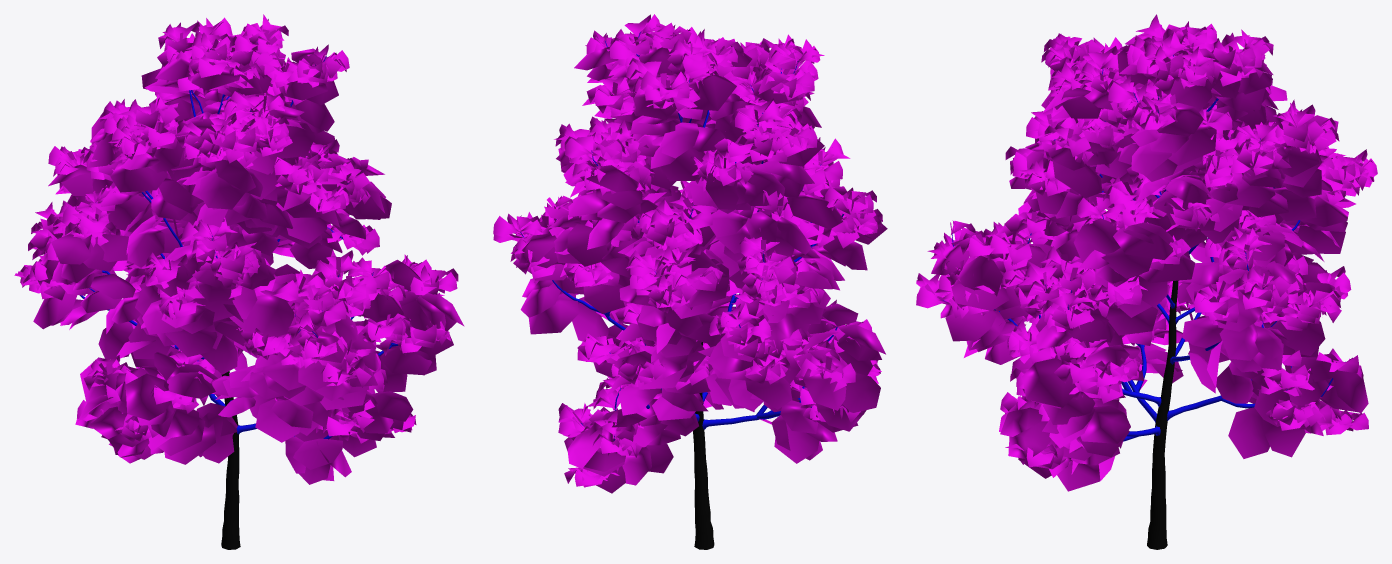
The model's file is Maple.fbx.
3 renders of one model, left to right at view 1: azimuth 30°, elevation 25°; view 2: azimuth 150°, elevation 25°; view 3: azimuth 270°, elevation 25°, orthographic. The views are drawn at different scales.
Visible parts, largest first — view 1: Maple_LOD0; view 2: Maple_LOD0; view 3: Maple_LOD0.
Part boxes in pixels (bbox=[...]): Maple_LOD0: bbox=[14, 14, 464, 549]; Maple_LOD0: bbox=[493, 14, 887, 549]; Maple_LOD0: bbox=[916, 14, 1377, 549].
Size of what is drawn, in the model's own units: 930 by 1283 by 1030.
